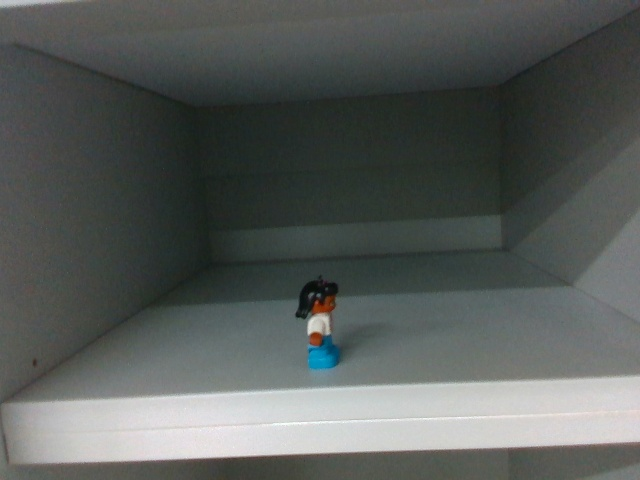people: (293, 277, 346, 374)
